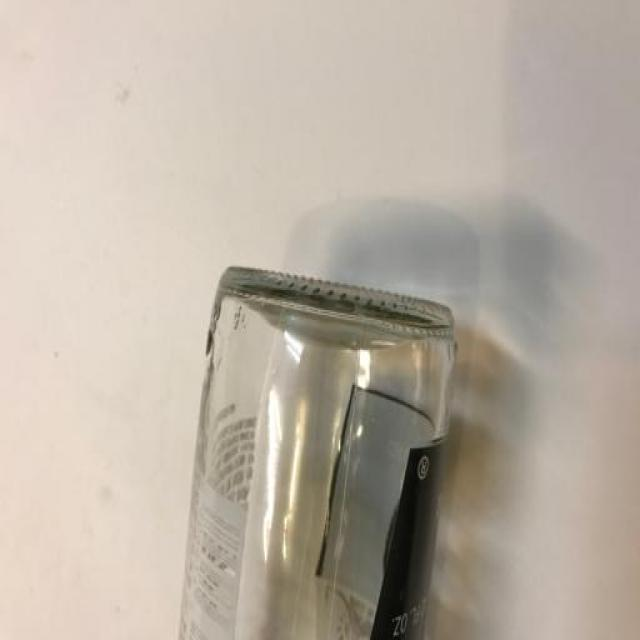glass: (134, 138, 502, 640)
